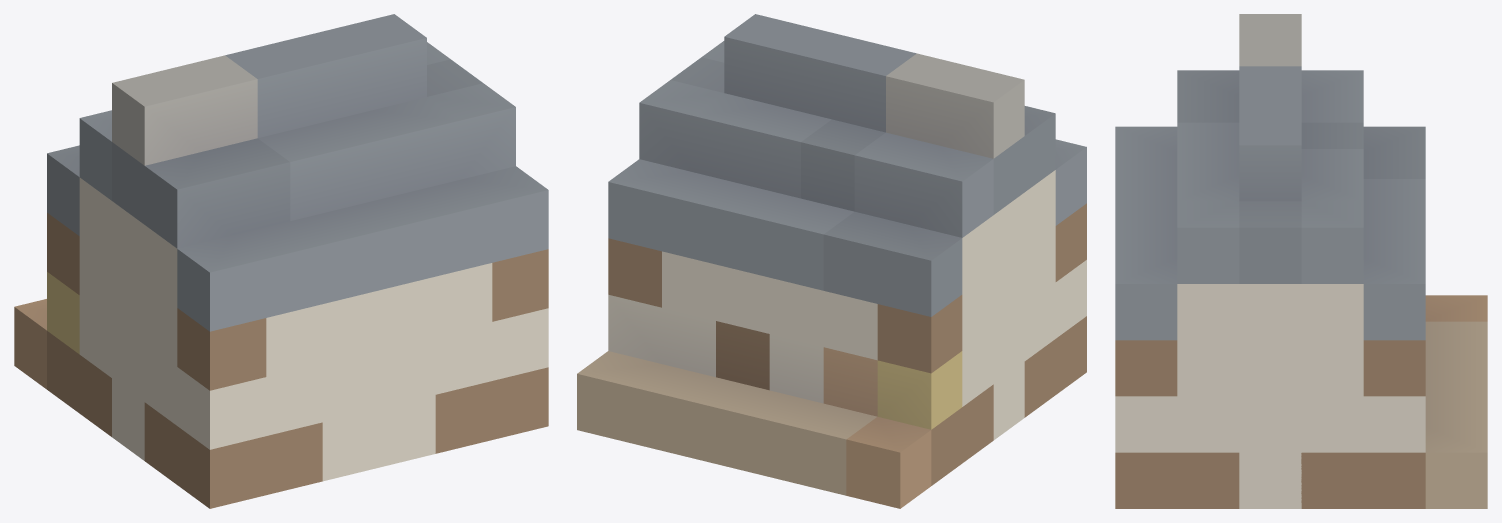
File: rendering_house.lite.glb
3 renders of one model, left to right at view 1: azimuth 30°, elevation 25°; view 2: azimuth 150°, elevation 25°; view 3: azimuth 270°, elevation 25°, orthographic. The views are drawn at different scales.
Parts seen in each view (by area): view 1: rendering_house; view 2: rendering_house; view 3: rendering_house.
Part boxes in pixels (x1,y1,x2,y2): rendering_house: [14, 14, 548, 508]; rendering_house: [577, 14, 1086, 508]; rendering_house: [1115, 14, 1487, 508].
Size of the model in its own units: 3 by 3 by 3.
